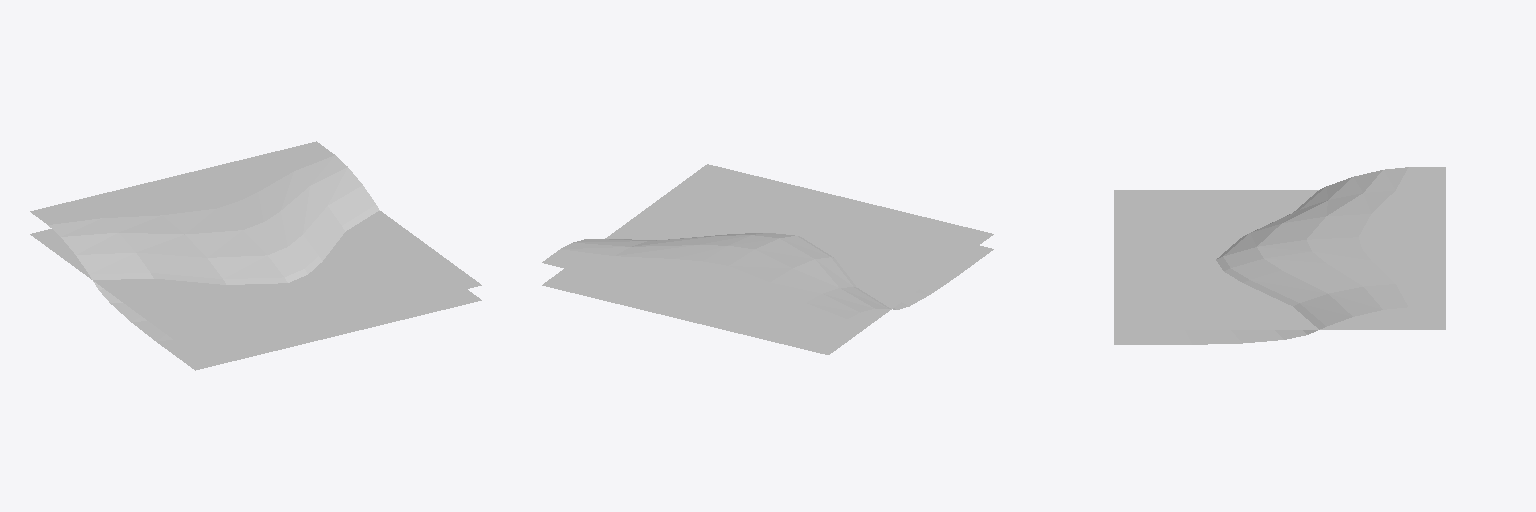
Rendered from Water-Edge.obj.
3 renders of one model, left to right at view 1: azimuth 30°, elevation 25°; view 2: azimuth 150°, elevation 25°; view 3: azimuth 270°, elevation 25°, orthographic.
Visible parts, largest first — view 1: Water-Edge_Plane.010; view 2: Water-Edge_Plane.010; view 3: Water-Edge_Plane.010.
Part boxes in pixels (bbox=[...]): Water-Edge_Plane.010: bbox=[30, 141, 481, 370]; Water-Edge_Plane.010: bbox=[542, 164, 993, 354]; Water-Edge_Plane.010: bbox=[1114, 167, 1445, 344].
Size of the model in its own units: 2 by 0.25 by 2.